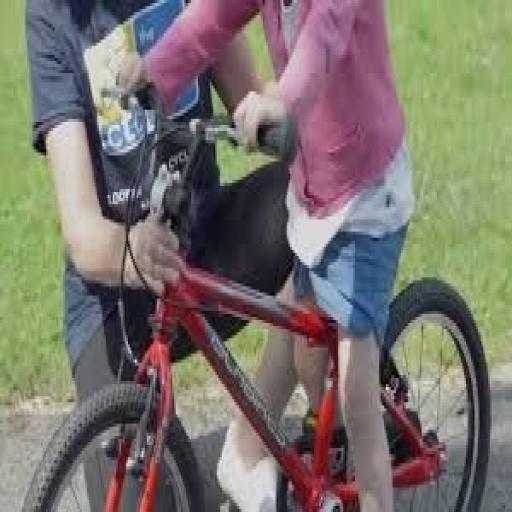cycling: (114, 0, 416, 509)
